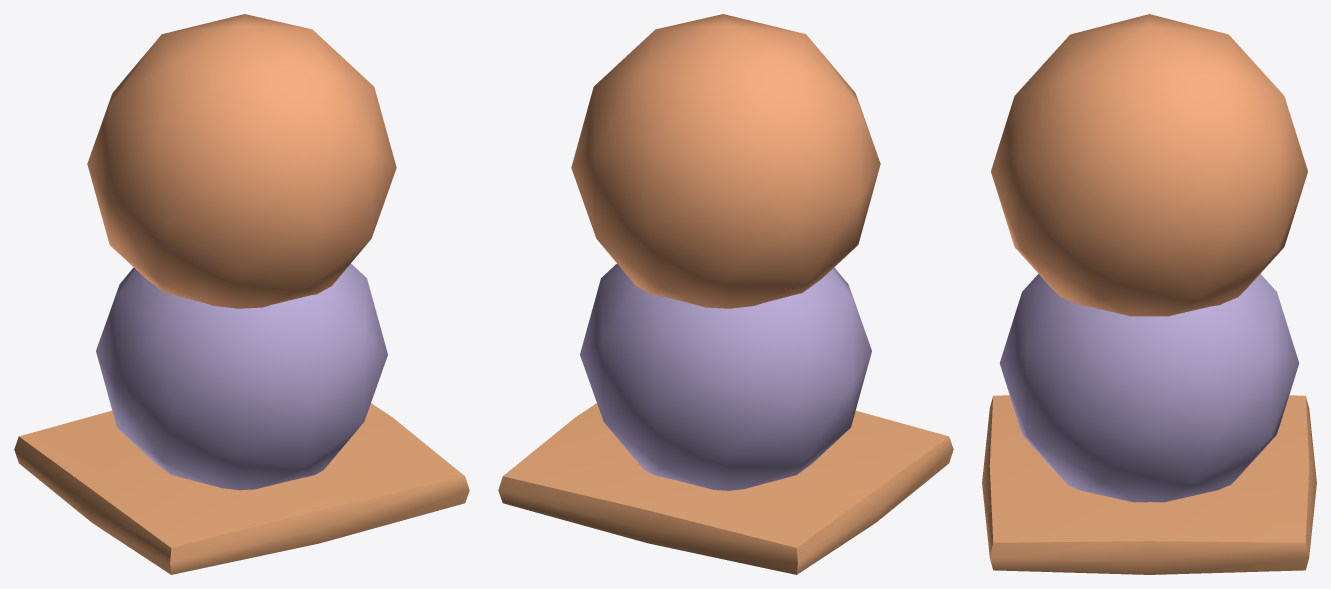
Rendered from figurine.glb.
3 renders of one model, left to right at view 1: azimuth 30°, elevation 25°; view 2: azimuth 150°, elevation 25°; view 3: azimuth 270°, elevation 25°, orthographic. The views are drawn at different scales.
Visible parts, largest first — view 1: part (×3); view 2: part (×3); view 3: part (×3).
Boxes of the visible parts, x1,y1,x2,y2 form: part (×3): (14, 14, 469, 574); part (×3): (498, 14, 953, 574); part (×3): (982, 14, 1316, 574).
Size of the model in its own units: 0.21 by 0.3 by 0.19.
1 material, 1 textured.
